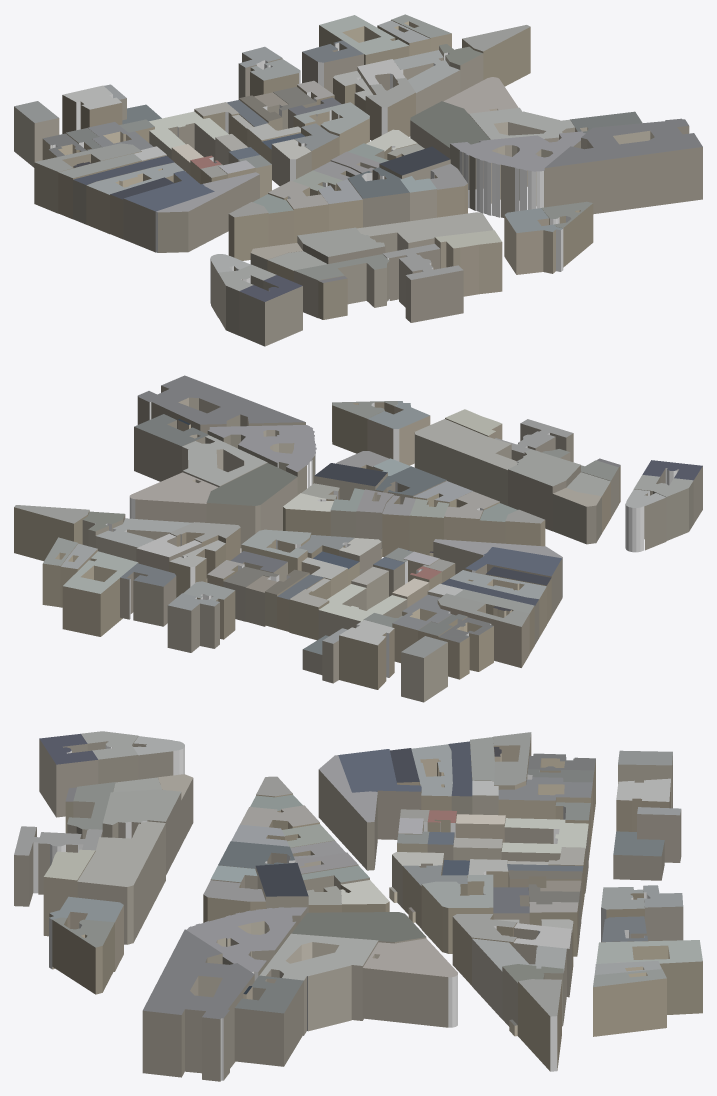
The picture shows the model from 3 angles, top to bottom: view 1: azimuth 30°, elevation 25°; view 2: azimuth 150°, elevation 25°; view 3: azimuth 270°, elevation 25°; orthographic projection. The views are drawn at different scales.
Visible parts, largest first — view 1: tuile; view 2: tuile; view 3: tuile.
Boxes of the visible parts, bbox=[...] form: tuile: bbox=[14, 14, 702, 346]; tuile: bbox=[14, 375, 702, 702]; tuile: bbox=[14, 731, 702, 1081].
Size of the model in its own units: 293 by 31.52 by 284.
